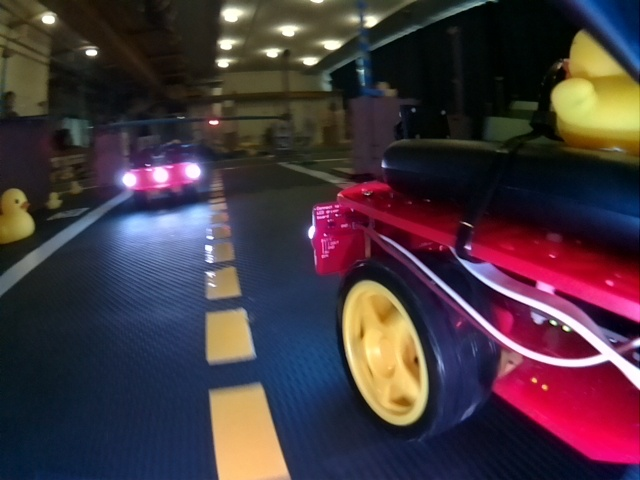Duckie: (553, 31, 638, 154), (2, 189, 34, 242), (46, 192, 59, 209), (71, 182, 81, 194)
Duckiebot: (311, 134, 640, 463), (123, 145, 202, 204)
QR code: (47, 207, 86, 221)
